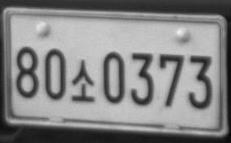0: (102, 50, 126, 104), (44, 47, 66, 100)
3: (187, 54, 213, 109), (130, 52, 154, 106)
7: (158, 53, 185, 107)
8: (15, 45, 39, 98)
소: (70, 59, 95, 101)
